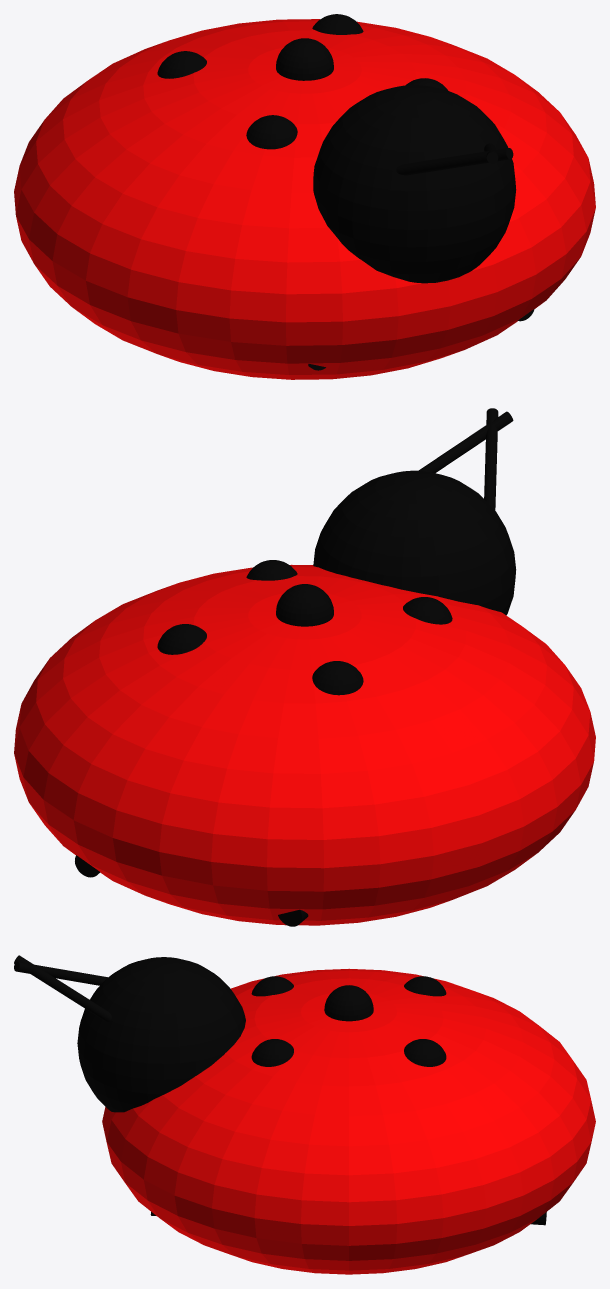
Rendered from ladybug.glb.
3 renders of one model, top to bottom at view 1: azimuth 30°, elevation 25°; view 2: azimuth 150°, elevation 25°; view 3: azimuth 270°, elevation 25°, orthographic. The views are drawn at different scales.
Parts seen in each view (by area): view 1: Body, Head, Spot_7, Spot_5, Antenna_Left, Spot_1, Spot_2; view 2: Body, Head, Spot_7, Spot_1, Spot_2, Antenna_Right, Antenna_Left, Spot_5, Spot_6; view 3: Body, Head, Spot_7, Antenna_Right, Spot_2, Spot_6, Antenna_Left, Spot_5, Spot_1.
Part boxes in pixels (x1=…): Body: x1=14, y1=19, x2=595, y2=379; Head: x1=313, y1=85, x2=516, y2=283; Spot_7: x1=276, y1=38, x2=333, y2=80; Spot_5: x1=246, y1=115, x2=297, y2=149; Antenna_Left: x1=396, y1=148, x2=513, y2=175; Spot_1: x1=157, y1=51, x2=206, y2=78; Spot_2: x1=312, y1=14, x2=363, y2=34; Body: x1=14, y1=564, x2=595, y2=925; Head: x1=313, y1=470, x2=516, y2=615; Spot_7: x1=276, y1=584, x2=333, y2=626; Spot_1: x1=312, y1=661, x2=363, y2=695; Spot_2: x1=157, y1=624, x2=206, y2=654; Antenna_Right: x1=418, y1=411, x2=513, y2=473; Antenna_Left: x1=484, y1=408, x2=498, y2=510; Spot_5: x1=403, y1=597, x2=452, y2=624; Spot_6: x1=246, y1=560, x2=297, y2=580; Body: x1=102, y1=968, x2=595, y2=1274; Head: x1=77, y1=957, x2=245, y2=1112; Spot_7: x1=324, y1=985, x2=373, y2=1021; Antenna_Right: x1=14, y1=955, x2=111, y2=1021; Spot_2: x1=404, y1=1039, x2=446, y2=1066; Spot_6: x1=251, y1=1039, x2=293, y2=1066; Antenna_Left: x1=14, y1=961, x2=107, y2=985; Spot_5: x1=251, y1=976, x2=293, y2=996; Spot_1: x1=404, y1=976, x2=446, y2=996.
Size of the model in its own units: 2 by 1.23 by 2.36.
